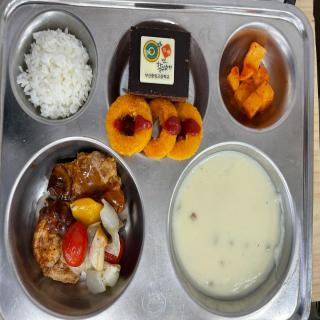Nasi: (20, 32, 94, 120)
